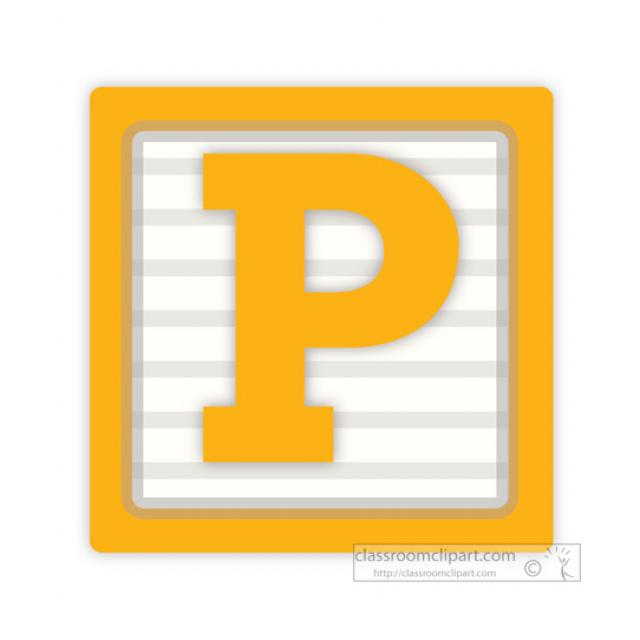P: (184, 138, 483, 496)
